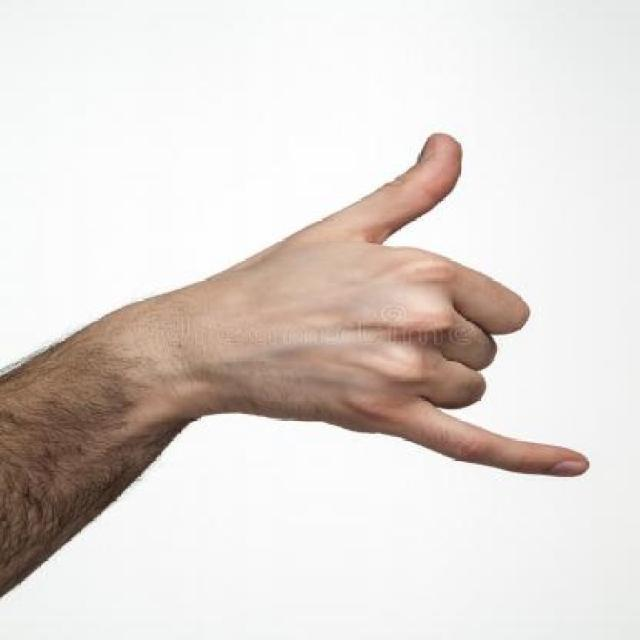no_apron: (263, 108, 619, 508)
